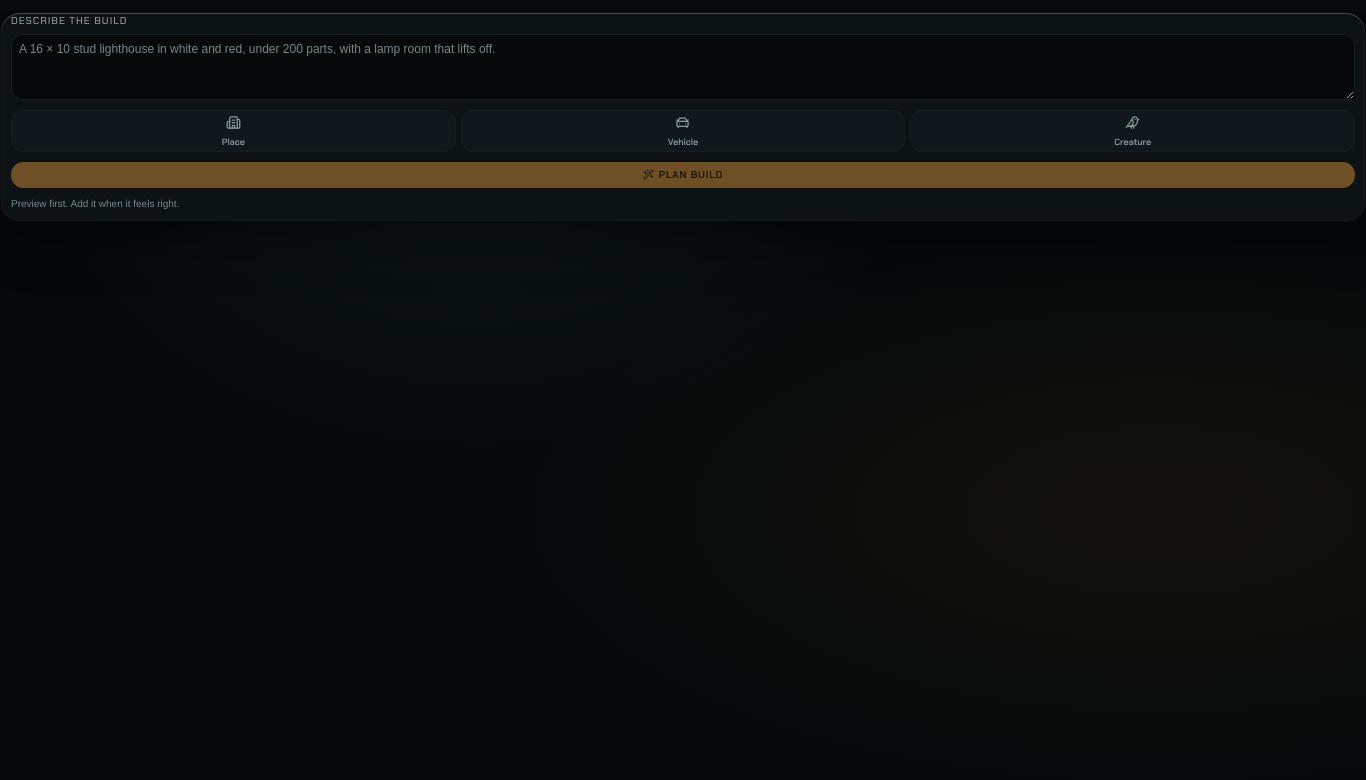
Test case: conflicts › takes “keep the compiler’s reading” as a real, recorded decision
Replace the text in the text box named "What should be built" with "a small 8 x 4 stud red kiosk under 90 parts" at [683, 67], box 11,34 -> 1355,100
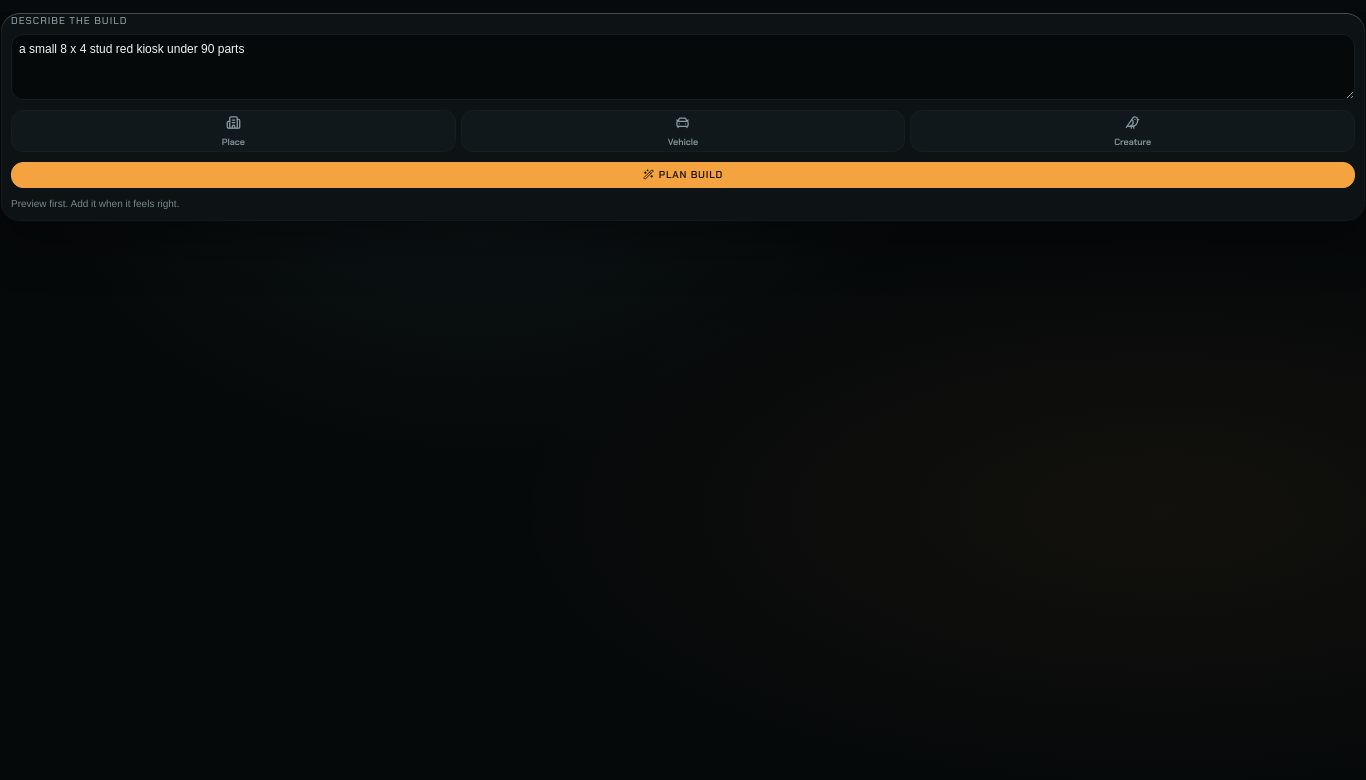
Click the button with aria-label "Compile brief" at [683, 175], box 11,162 -> 1355,188
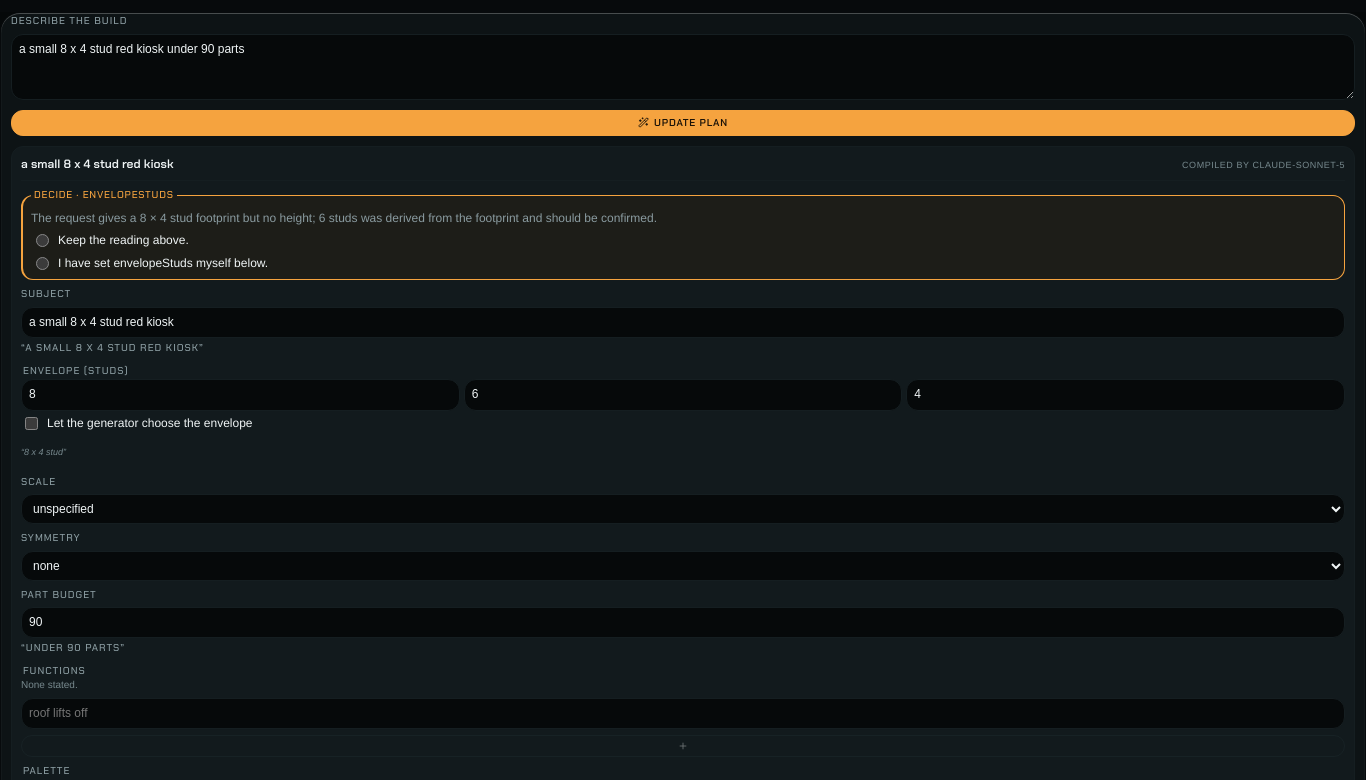
Click the radio button labelled "Keep the reading above." at [42, 241], box 36,234 -> 49,248
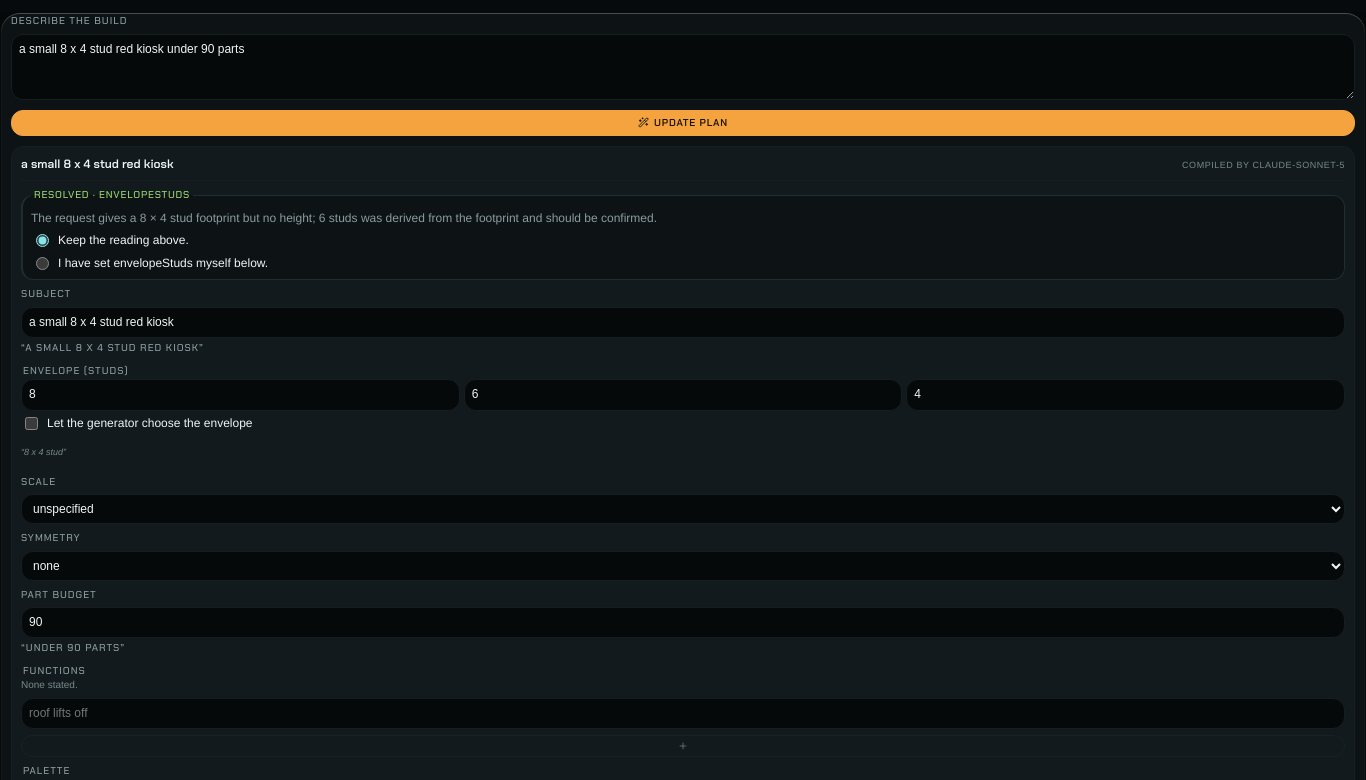
Result: the text "Resolved · envelopeStuds" is shown at 31,189 -> 193,203
